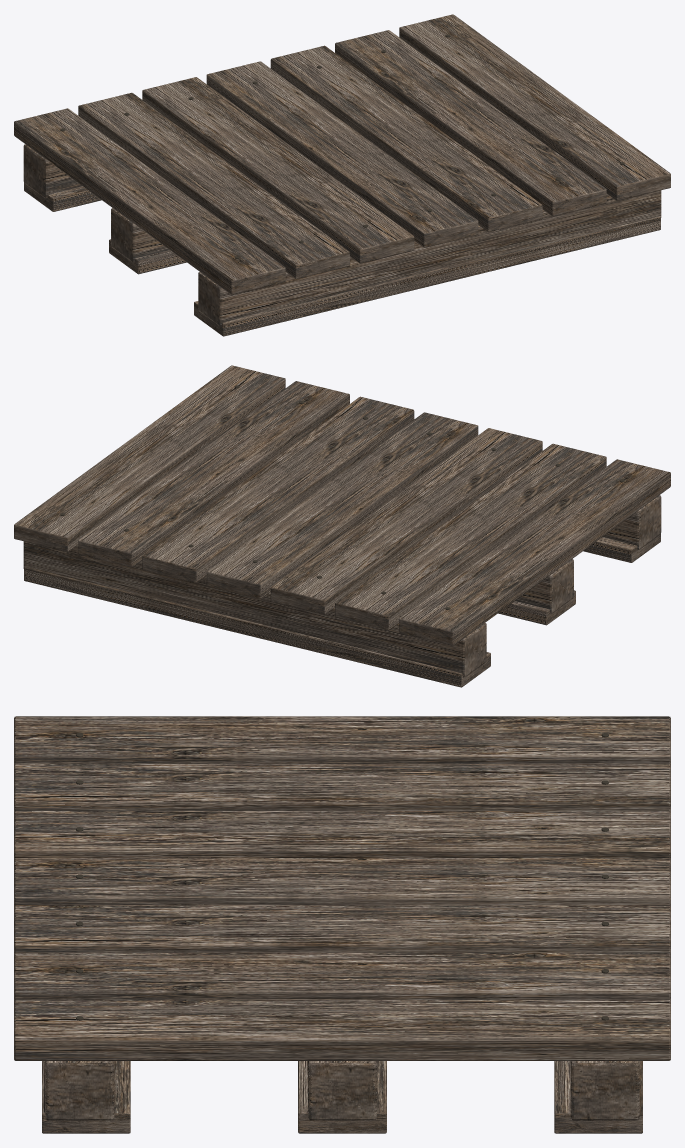
File: WeatheredPallet.fbx
3 views of the same model, one above another, from view 1: azimuth 30°, elevation 25°; view 2: azimuth 150°, elevation 25°; view 3: azimuth 270°, elevation 25° (orthographic). The views are drawn at different scales.
Visible parts, largest first — view 1: WeatheredPallet; view 2: WeatheredPallet; view 3: WeatheredPallet.
Boxes of the visible parts, x1,y1,x2,y2 form: WeatheredPallet: (14, 14, 670, 336); WeatheredPallet: (14, 365, 670, 687); WeatheredPallet: (14, 716, 670, 1133).
Bounding box in the file's own units: 117 × 16.3 × 100.
